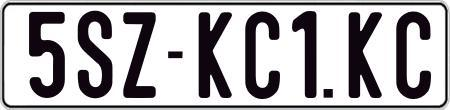1: (290, 11, 318, 99)
5: (27, 12, 66, 101)
C: (245, 9, 284, 96), (396, 9, 432, 100)
K: (348, 12, 384, 102), (198, 9, 231, 101)
S: (77, 9, 114, 98)
Z: (121, 9, 154, 98)
